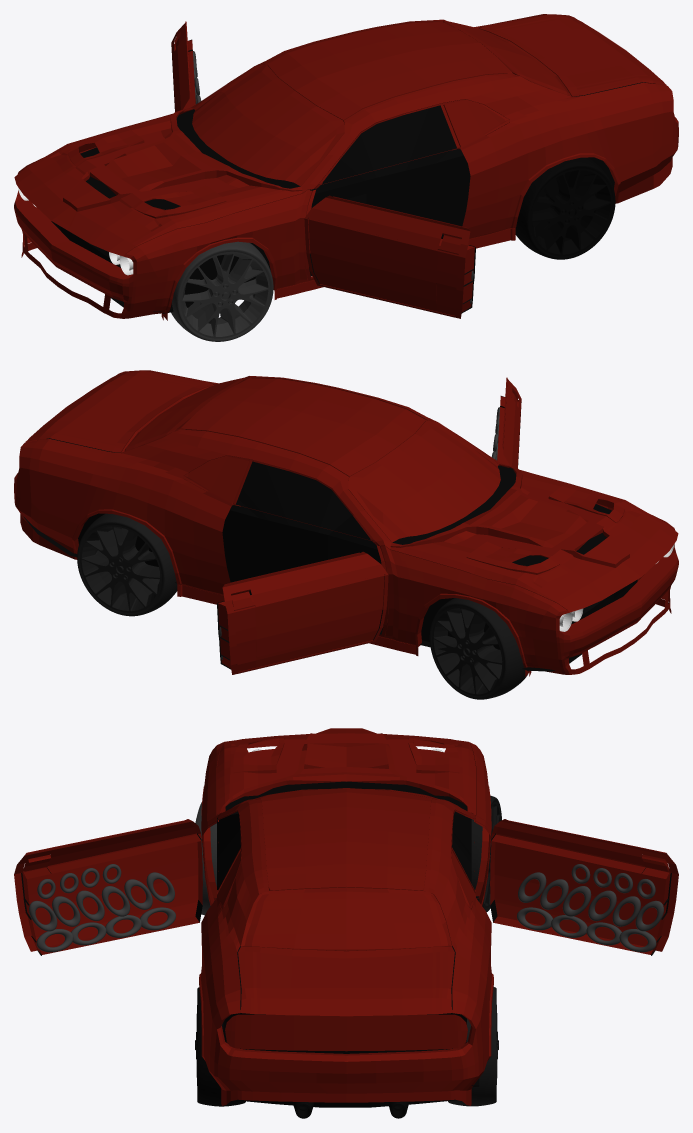
The model's file is SedanCompleto.glb.
The picture shows the model from 3 angles, top to bottom: view 1: azimuth 30°, elevation 25°; view 2: azimuth 150°, elevation 25°; view 3: azimuth 270°, elevation 25°; orthographic projection. The views are drawn at different scales.
Visible parts, largest first — view 1: Plane, Cube.001, Circle.003, Circle.001; view 2: Plane, Cube.001, Circle.002, Circle.004, Circle; view 3: Plane, Plane.003, Cube.001, Circle.002, Circle.003, Circle.004, Circle.001, Circle.
Part boxes in pixels (left/top/right/bottom): Plane: left=14, top=14, right=678, bottom=320; Cube.001: left=51, top=82, right=646, bottom=313; Circle.003: left=515, top=157, right=615, bottom=259; Circle.001: left=171, top=241, right=273, bottom=341; Plane: left=14, top=370, right=678, bottom=676; Cube.001: left=47, top=438, right=637, bottom=649; Circle.002: left=77, top=513, right=177, bottom=616; Circle.004: left=429, top=598, right=528, bottom=699; Circle: left=23, top=516, right=581, bottom=671; Plane: left=14, top=728, right=678, bottom=1105; Plane.003: left=29, top=864, right=663, bottom=952; Cube.001: left=217, top=781, right=471, bottom=1107; Circle.002: left=448, top=987, right=498, bottom=1106; Circle.003: left=195, top=987, right=245, bottom=1106; Circle.004: left=471, top=795, right=501, bottom=912; Circle.001: left=195, top=802, right=216, bottom=915; Circle: left=293, top=896, right=479, bottom=1118.
Bounding box in the file's own units: 3.25 × 0.9807 × 2.82.
